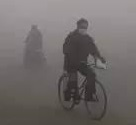person: (58, 18, 109, 122), (24, 24, 47, 67)
